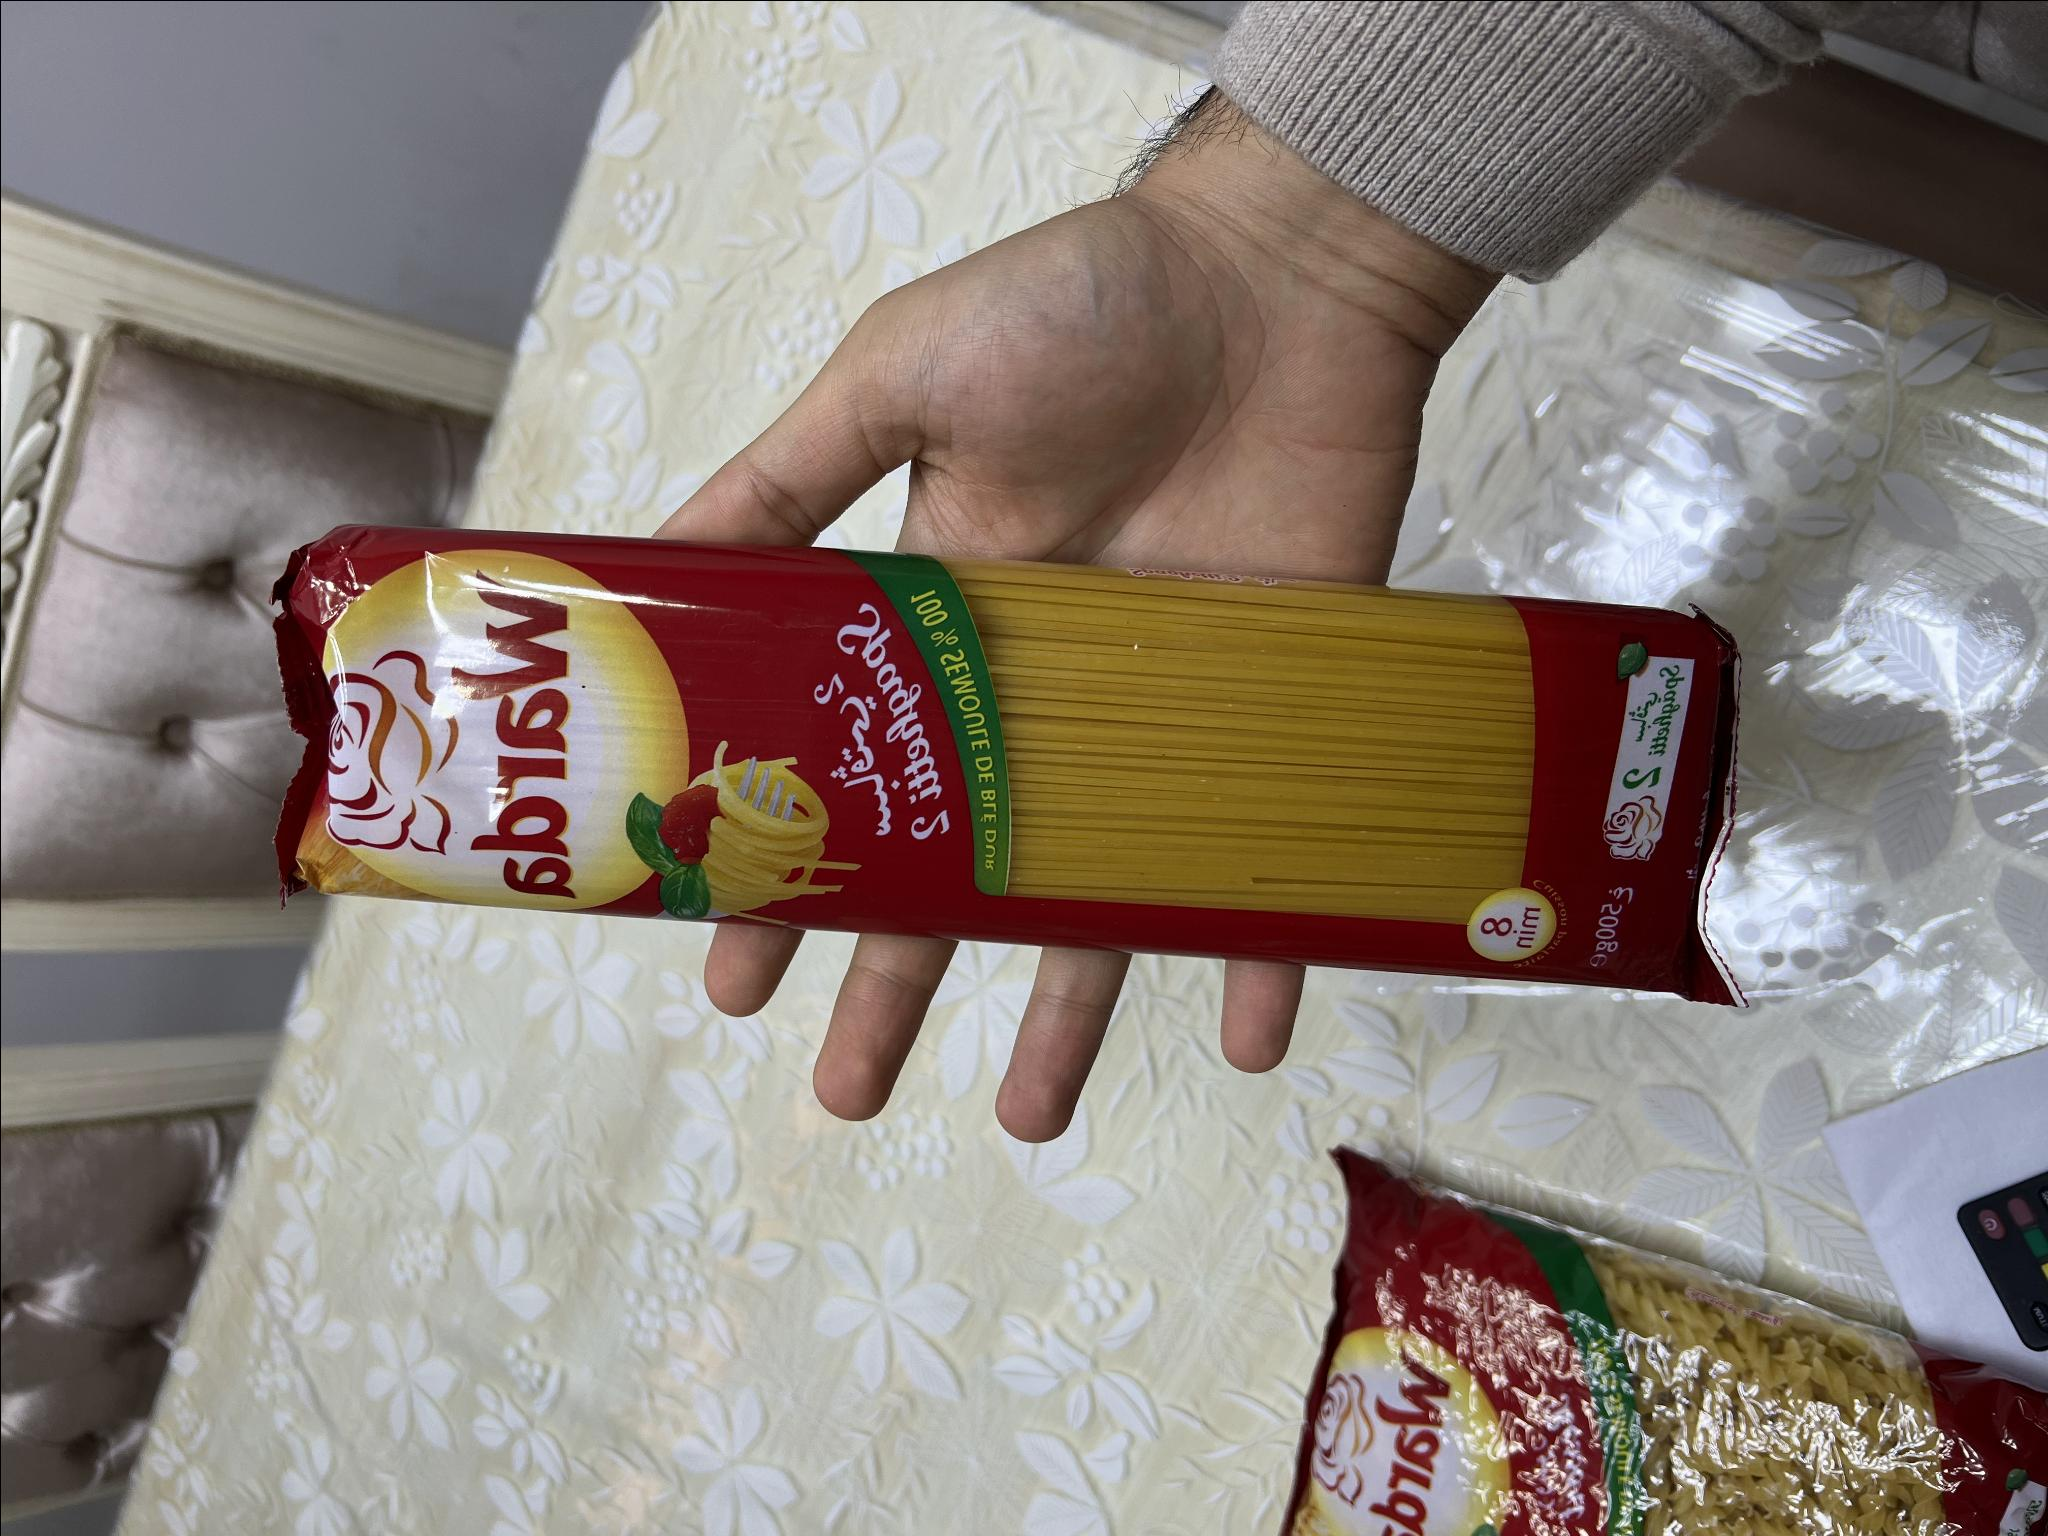Spaghetti: (263, 523, 1746, 1004)
